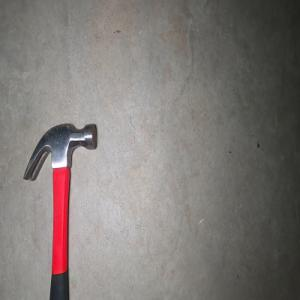Hammer: (22, 122, 97, 300)
